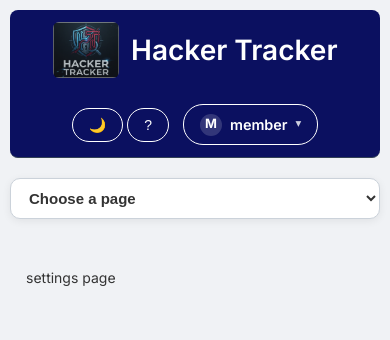
AppShell › shows a disabled placeholder in the mobile select on a page outside the nav, and Overview is selectable
Select "Overview" in the dropdown named "Navigate to page" at [195, 198], box x1=10 y1=178 x2=380 y2=219
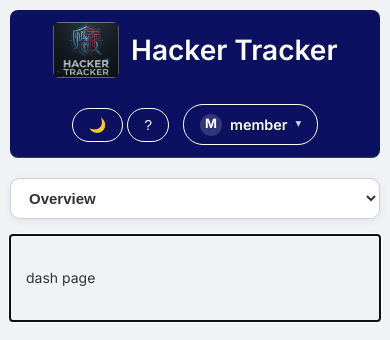
expect the text "dash page" is shown: met, box x1=26 y1=269 x2=95 y2=286
